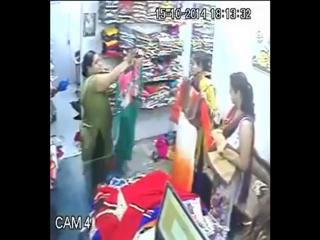Normal: (78, 49, 134, 198), (206, 70, 256, 232), (112, 48, 143, 175)
